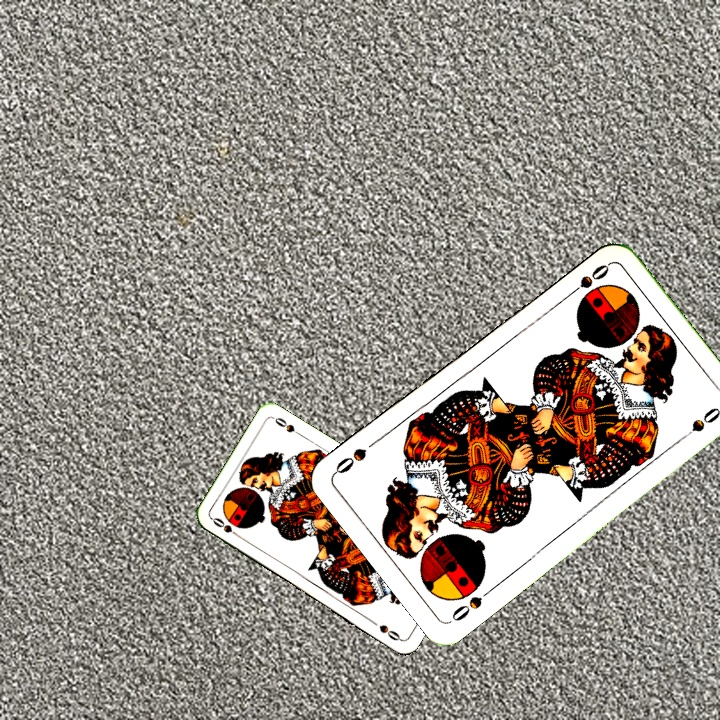SO: (446, 583, 496, 625), (561, 260, 612, 301), (208, 513, 245, 541)
